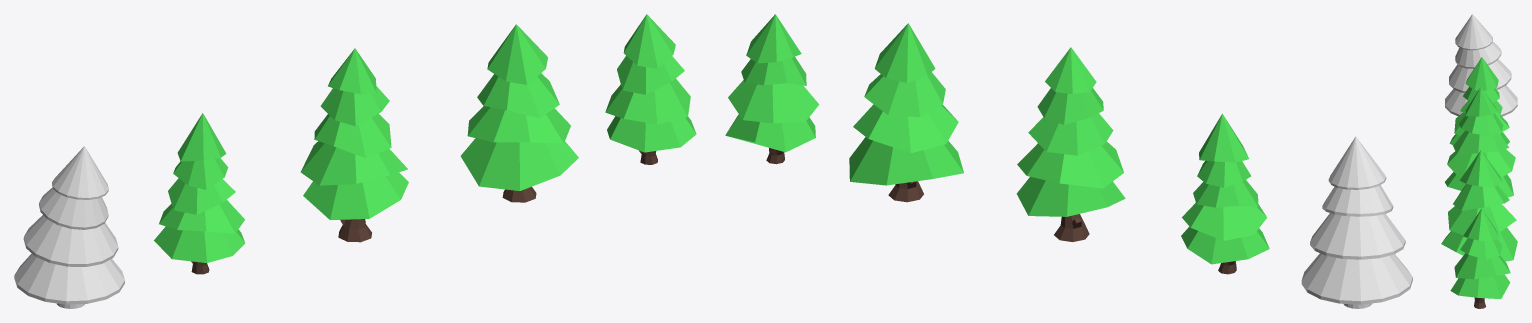
File: Tree.fbx
3 views of the same model, side by side, from view 1: azimuth 30°, elevation 25°; view 2: azimuth 150°, elevation 25°; view 3: azimuth 270°, elevation 25° (orthographic). The views are drawn at different scales.
Visible parts, largest first — view 1: Cone.011, Cone.007, Cone.005, Cone.021, Cone.022, Cone.010, Cone.018, Cone.012, Cone.015, Cone.017, Cone.020, Cone.014 (+11 smaller); view 2: Cone.007, Cone.011, Cone.005, Cone.010, Cone.022, Cone.021, Cone.018, Cone.012, Cone.020, Cone.013, Cone.014, Cone.017 (+12 smaller); view 3: Cone.010, Cone.017, Cone.018, Cone.012, Cone.022, Cone.020, Cone.014, Cone.004, Cone.007, Cone.011, Cone.005, Cone.006 (+11 smaller).
Boxes of the visible parts, x1,y1,x2,y2 form: Cone.011: (460,138,578,190); Cone.007: (14,253,124,304); Cone.005: (23,215,118,266); Cone.021: (303,172,408,219); Cone.022: (300,141,407,185); Cone.010: (467,106,570,143); Cone.018: (605,78,690,124); Cone.012: (477,73,559,118); Cone.015: (154,226,245,262); Cone.017: (607,116,696,152); Cone.020: (314,113,391,158); Cone.014: (487,24,547,84); Cone.007: (1301,253,1412,304); Cone.011: (849,137,963,185); Cone.005: (1310,213,1405,259); Cone.010: (853,104,958,153); Cone.022: (1017,141,1123,188); Cone.021: (1016,177,1125,216); Cone.018: (728,80,819,123); Cone.012: (864,72,945,116); Cone.020: (1028,113,1113,155); Cone.013: (1182,203,1267,240); Cone.014: (874,23,935,82); Cone.017: (725,114,815,152); Cone.010: (1448,204,1516,235); Cone.017: (1450,274,1510,299); Cone.018: (1454,253,1510,279); Cone.012: (1453,184,1509,210); Cone.022: (1447,149,1515,178); Cone.020: (1453,130,1509,154); Cone.014: (1459,150,1501,187); Cone.004: (1455,14,1492,50); Cone.007: (1445,85,1517,116); Cone.011: (1441,227,1517,261); Cone.005: (1449,59,1511,92); Cone.006: (1455,41,1501,68).
Bounding box in the file's own units: 1797 × 483 × 268.
